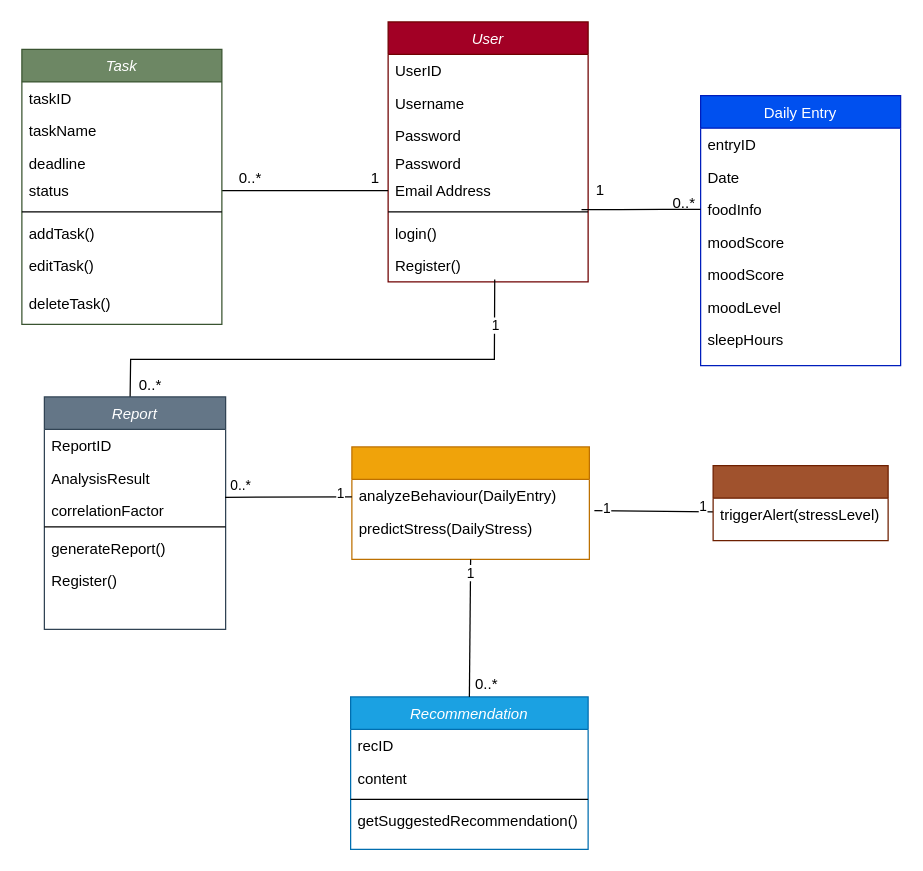
Image size: 923x871. Some labels were removed from this diagram. The shapes that lost their labels are listed below. From the top down, each one's box as (x1, y1, x2, y2) in pixels, then its label:
(351, 446, 589, 559): AnalysisEngine
(712, 464, 888, 541): AlertSystem
